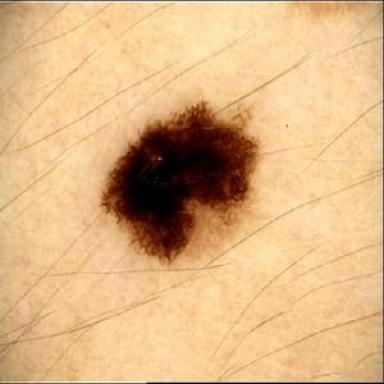Melanoma: (101, 101, 258, 263)
